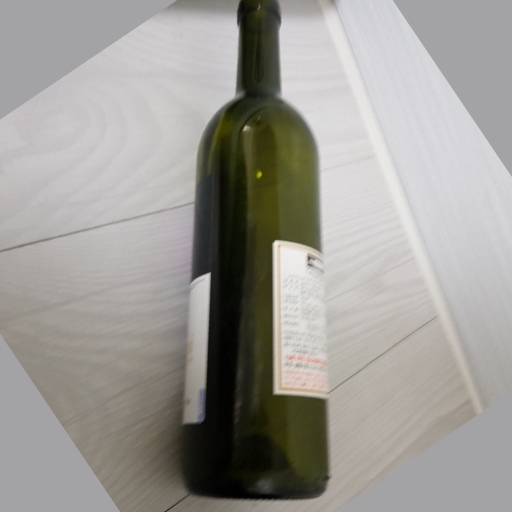Glass_2: (185, 1, 331, 500)
